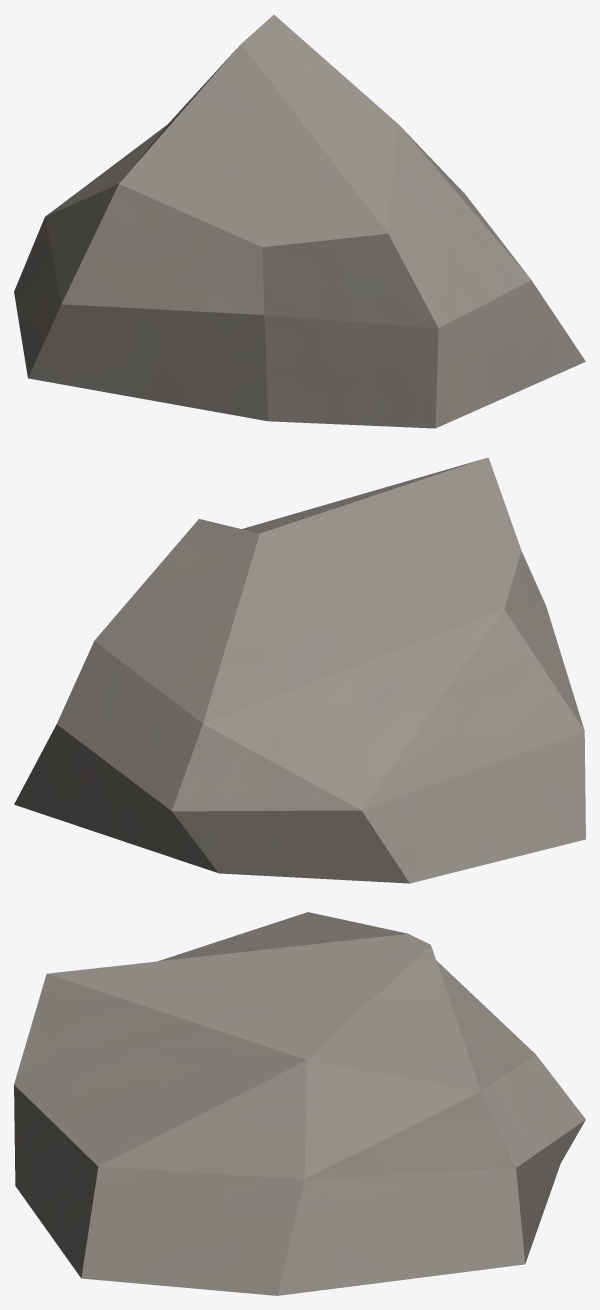
The model's file is Flat_Rock_B.obj.
The picture shows the model from 3 angles, top to bottom: view 1: azimuth 30°, elevation 25°; view 2: azimuth 150°, elevation 25°; view 3: azimuth 270°, elevation 25°; orthographic projection. The views are drawn at different scales.
Visible parts, largest first — view 1: Flat_Rock_B; view 2: Flat_Rock_B; view 3: Flat_Rock_B.
Part boxes in pixels (x1,y1,x2,y2): Flat_Rock_B: (14, 15, 585, 428); Flat_Rock_B: (14, 457, 585, 883); Flat_Rock_B: (14, 912, 585, 1295).
Bounding box in the file's own units: 0.3022 × 0.1562 × 0.3078.
